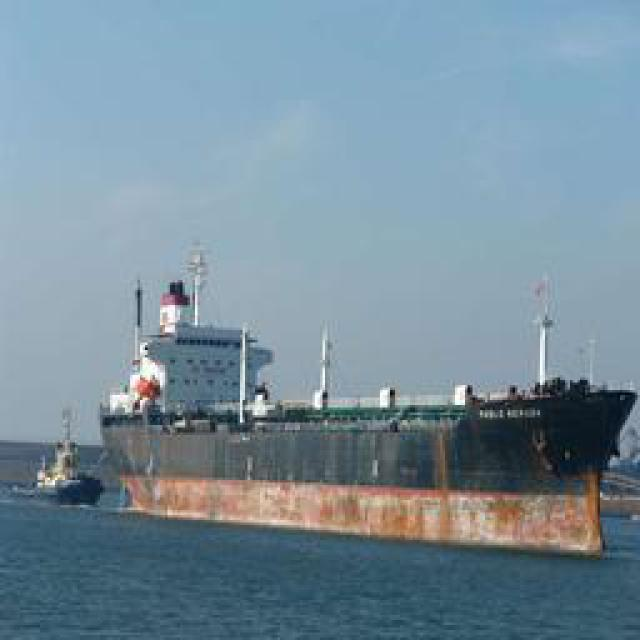Ship: (94, 243, 619, 548)
